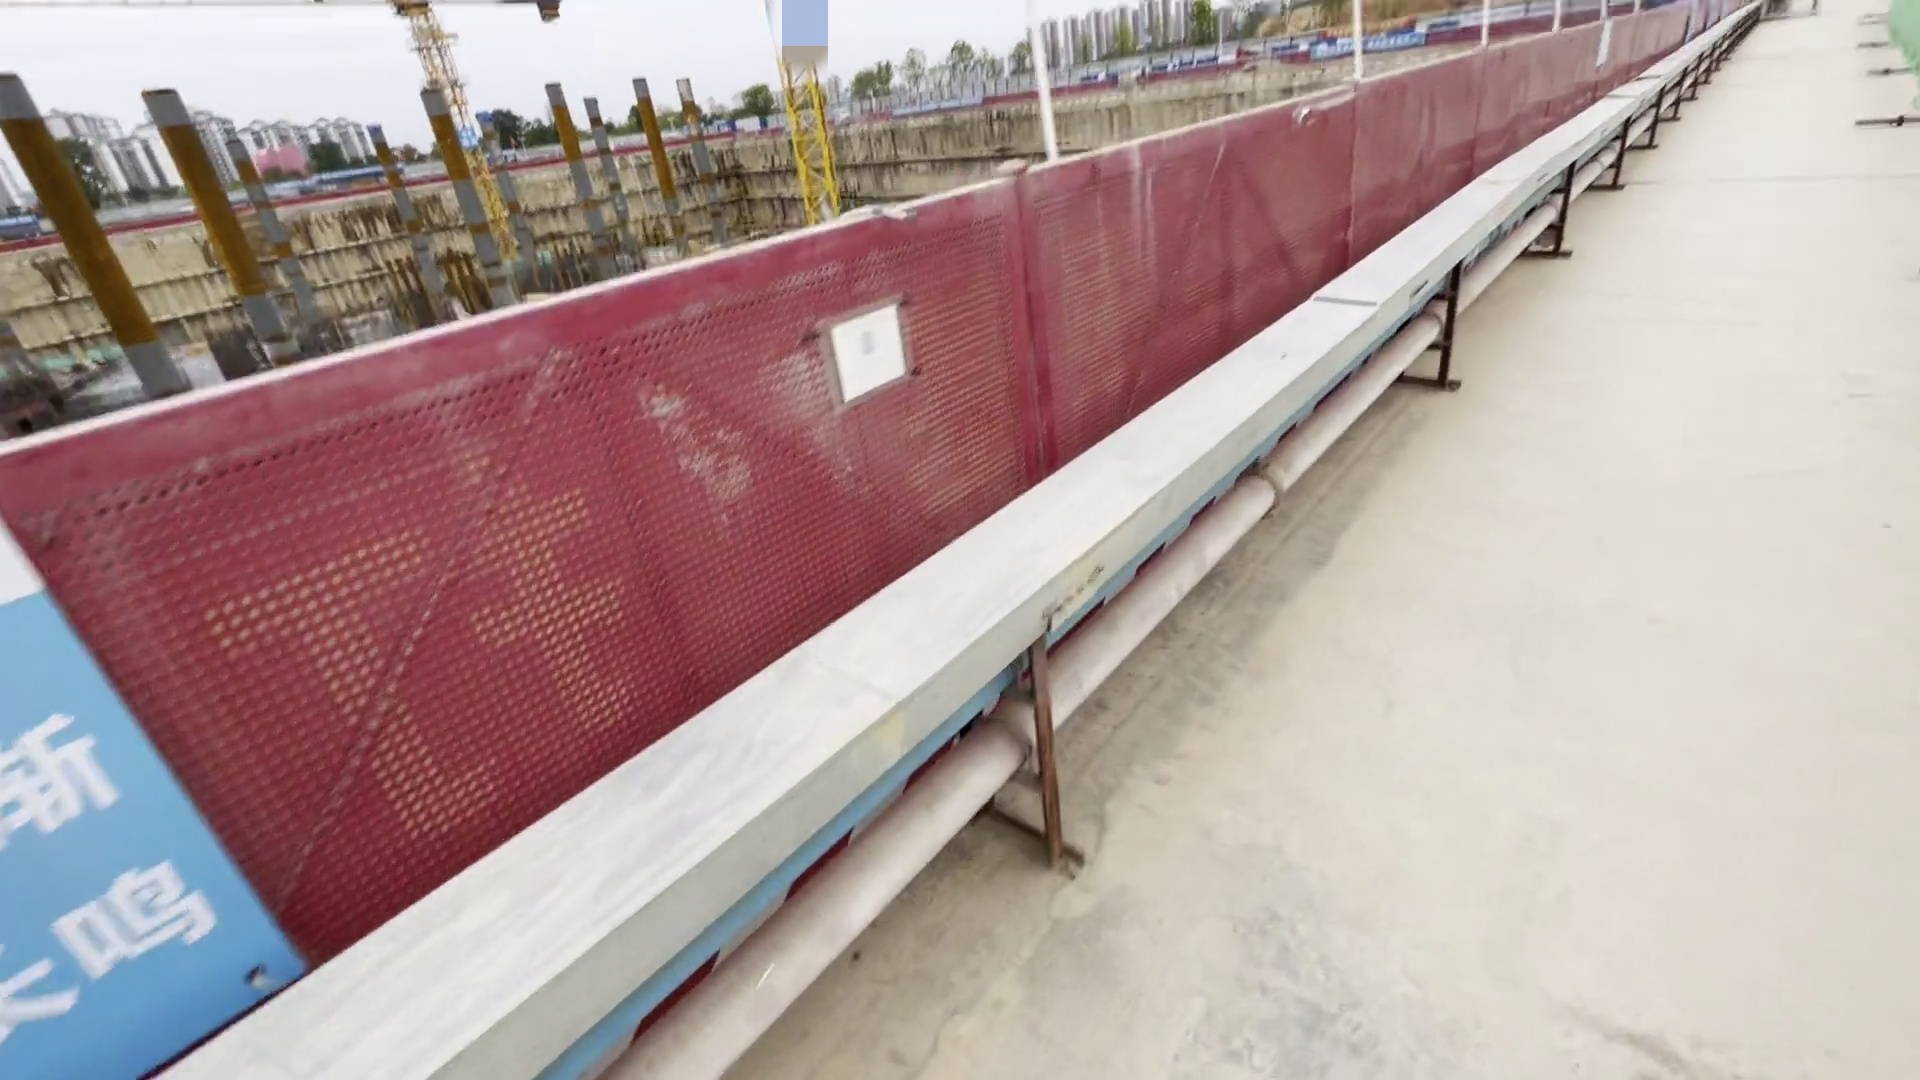fence: (1, 1, 1731, 1080)
